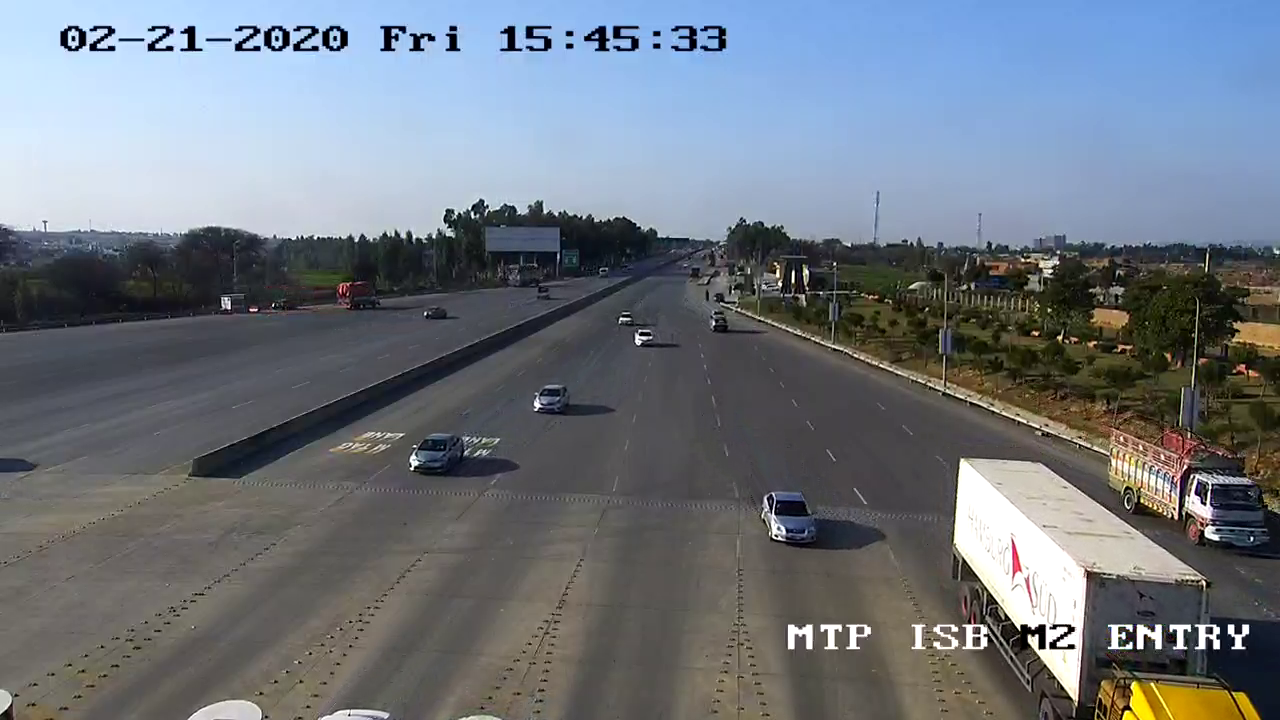f1: (754, 484, 825, 552), (394, 429, 468, 478), (526, 378, 579, 423)
f5: (1095, 417, 1280, 557)
